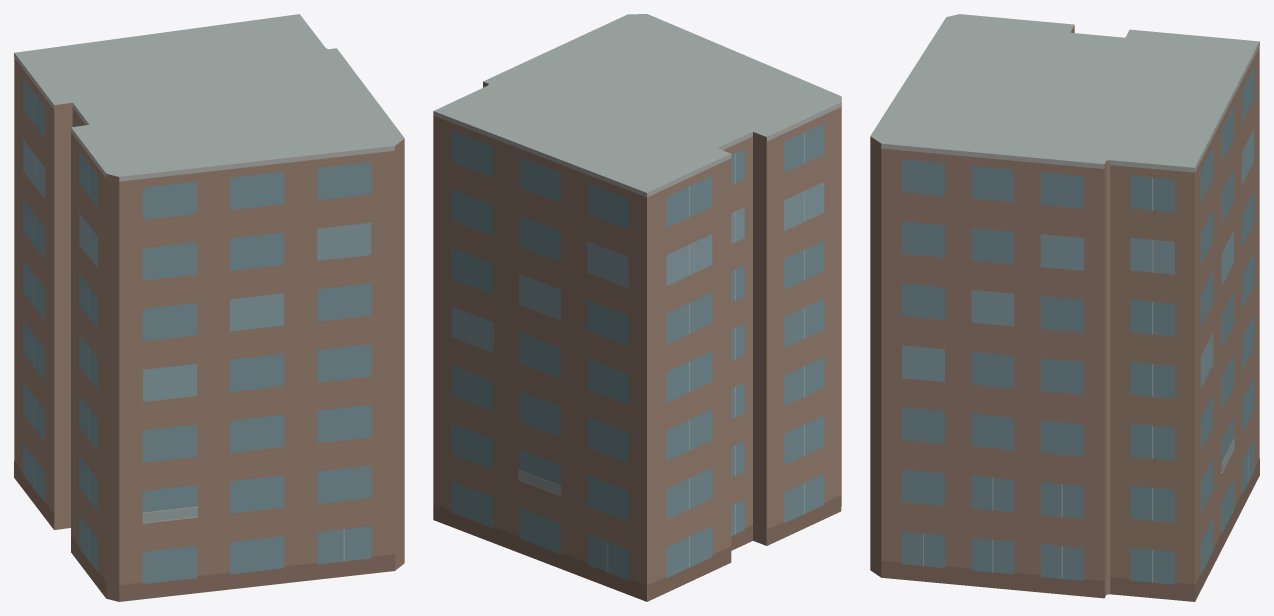
The model's file is survey-upis-32971303.glb.
3 renders of one model, left to right at view 1: azimuth 30°, elevation 25°; view 2: azimuth 150°, elevation 25°; view 3: azimuth 270°, elevation 25°, orthographic. The views are drawn at different scales.
Parts seen in each view (by area): view 1: survey-upis-32971303.tmp; view 2: survey-upis-32971303.tmp; view 3: survey-upis-32971303.tmp.
Part boxes in pixels (x1,y1,x2,y2): survey-upis-32971303.tmp: (14,14,404,601); survey-upis-32971303.tmp: (433,14,841,601); survey-upis-32971303.tmp: (870,14,1259,601).
Size of the model in its own units: 16.58 by 21.8 by 17.74.
